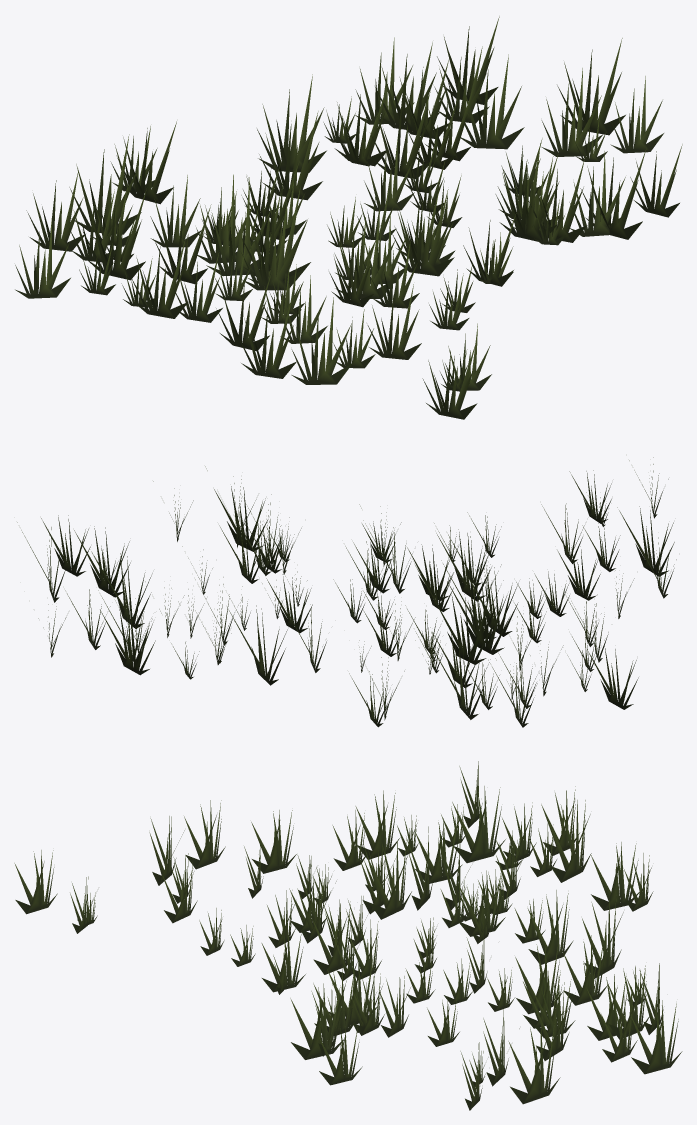
File: GrassRight.fbx
3 views of the same model, one above another, from view 1: azimuth 30°, elevation 25°; view 2: azimuth 150°, elevation 25°; view 3: azimuth 270°, elevation 25° (orthographic). The views are drawn at different scales.
Visible parts, largest first — view 1: Grass_Polybrush_Clone__12; view 2: Grass_Polybrush_Clone__12; view 3: Grass_Polybrush_Clone__12.
Boxes of the visible parts, x1,y1,x2,y2 form: Grass_Polybrush_Clone__12: (15,16,682,419); Grass_Polybrush_Clone__12: (17,457,676,727); Grass_Polybrush_Clone__12: (14,761,682,1110).
Bounding box in the file's own units: 420 × 388 × 52.79.
